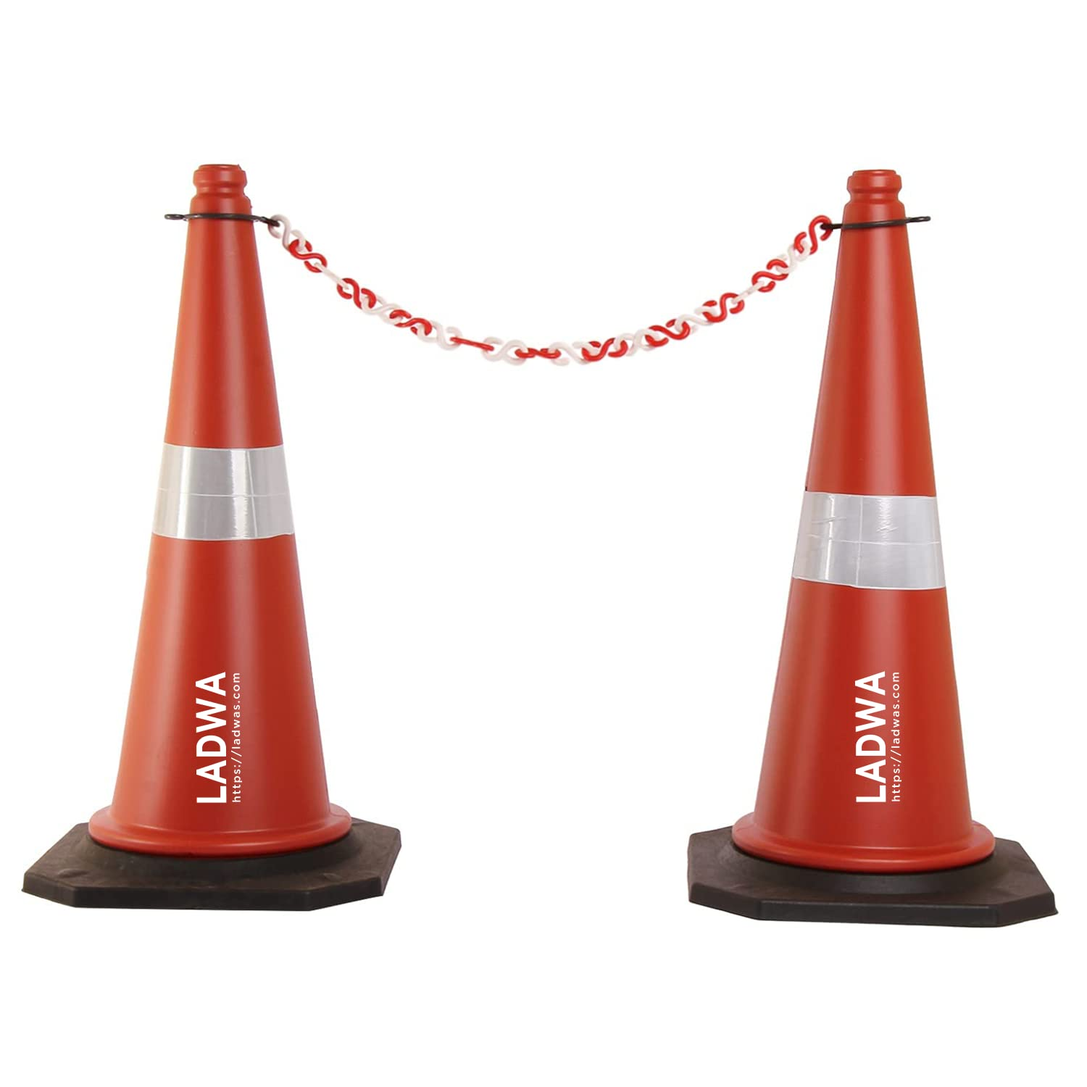Road_cone: (30, 151, 417, 918), (689, 160, 1065, 924)
